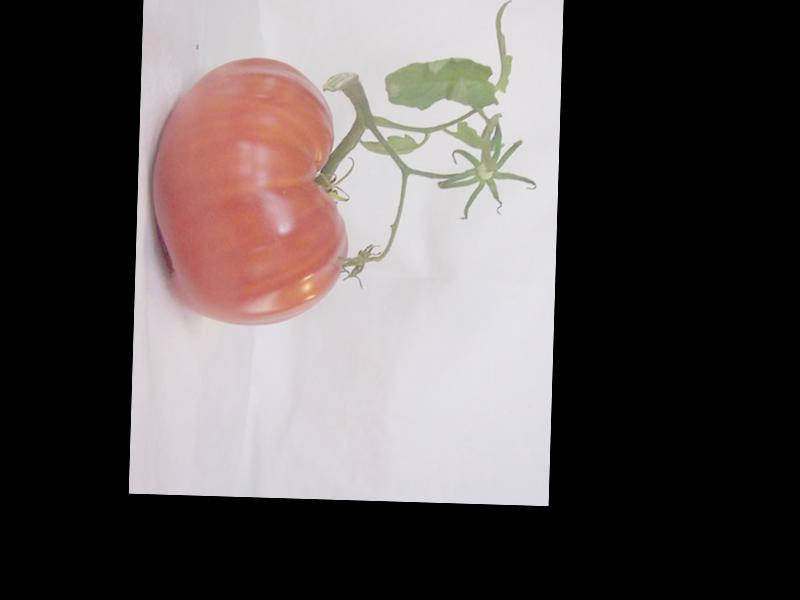Tomato: (146, 53, 353, 328)
